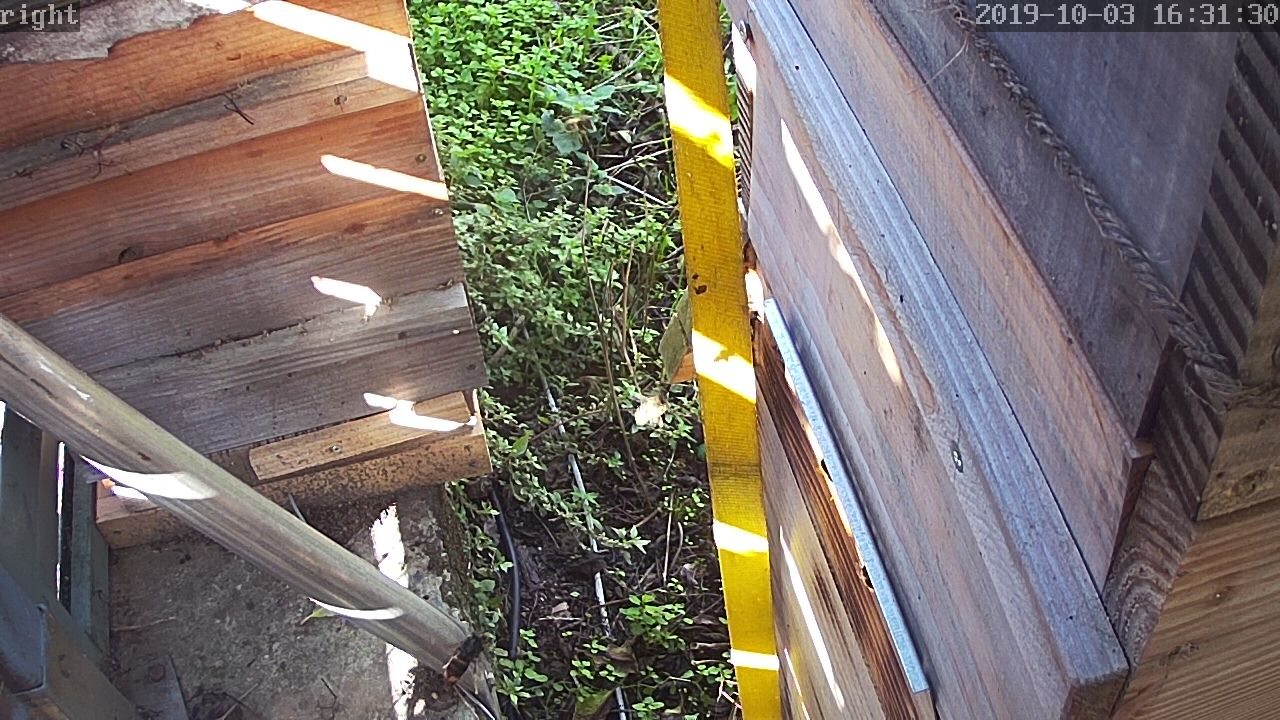hornet: (431, 631, 499, 687)
